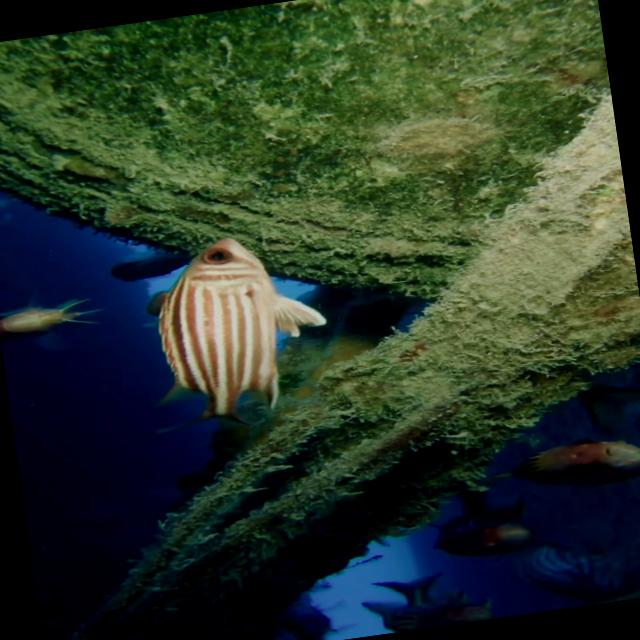Asker Baligi: (127, 224, 340, 441)
